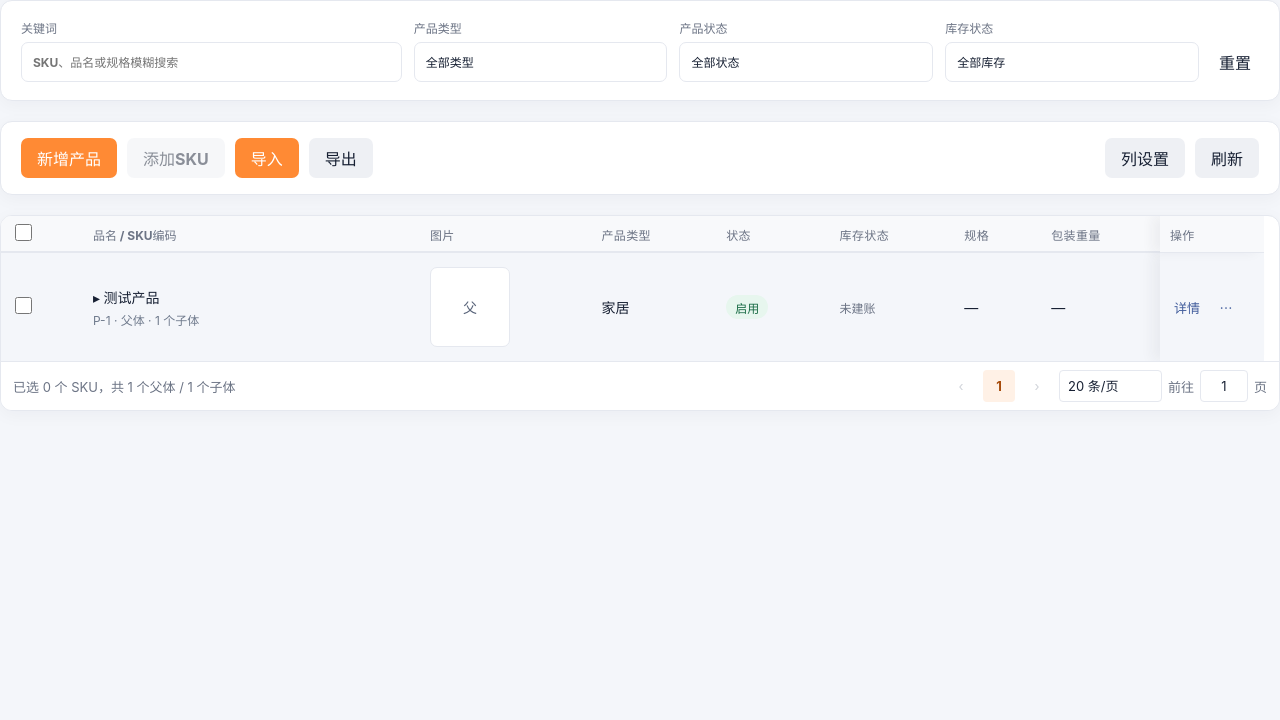
ProductsView › enables Add SKU only after selection and removes duplicate toolbar actions
Expected: the button "添加SKU" is disabled, left=127, top=138, right=225, bottom=178
Expected: the element with class "sku-toolbar" does not show "已选"
Click the checkbox named "选择父体 P-1" at coordinates (24, 306), box left=15, top=297, right=32, bottom=314
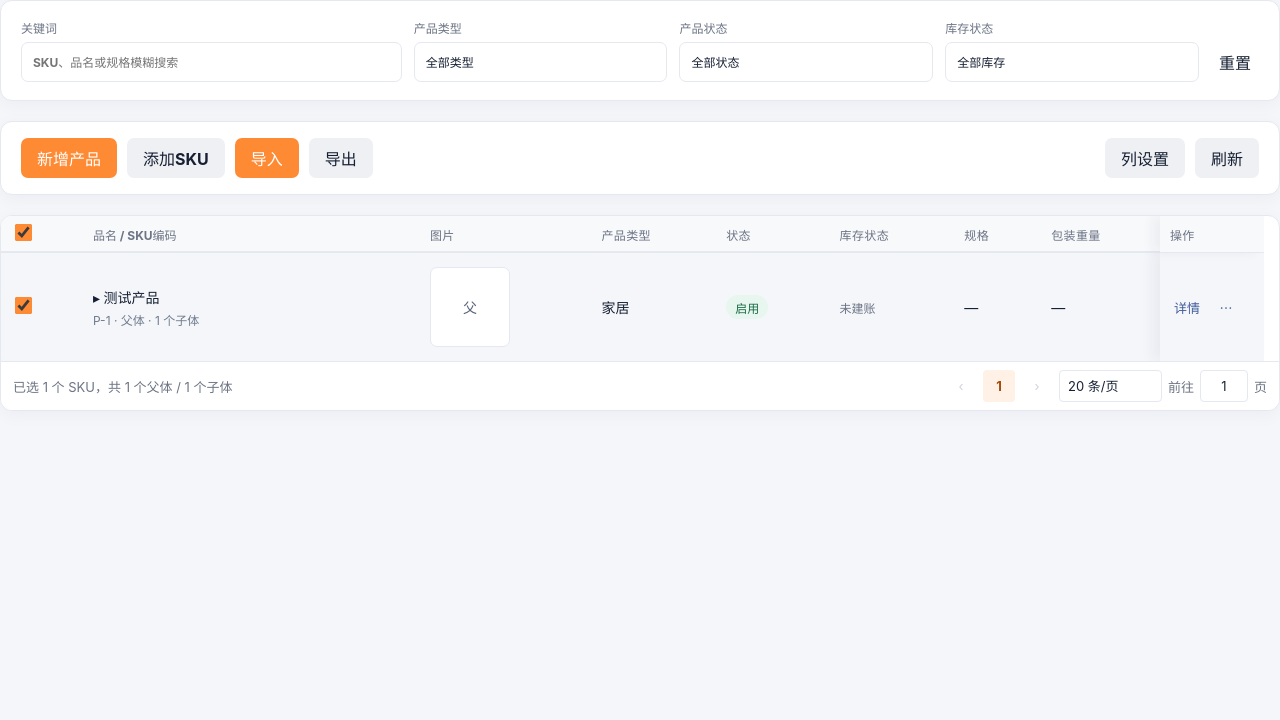
Result: the button "添加SKU" is enabled
Click the button "添加SKU" at coordinates (176, 158), box left=127, top=138, right=225, bottom=178
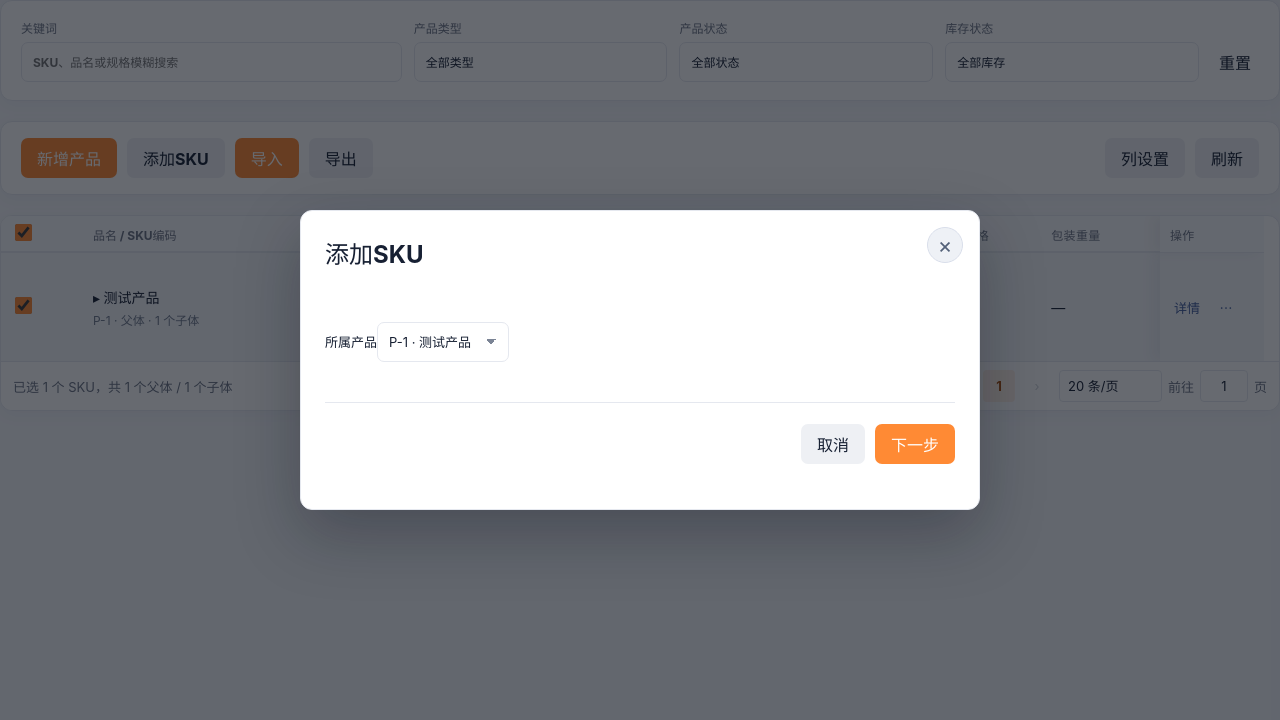
Result: the dropdown labelled "所属产品" shows "P-1 · 测试产品" at left=377, top=322, right=509, bottom=362
